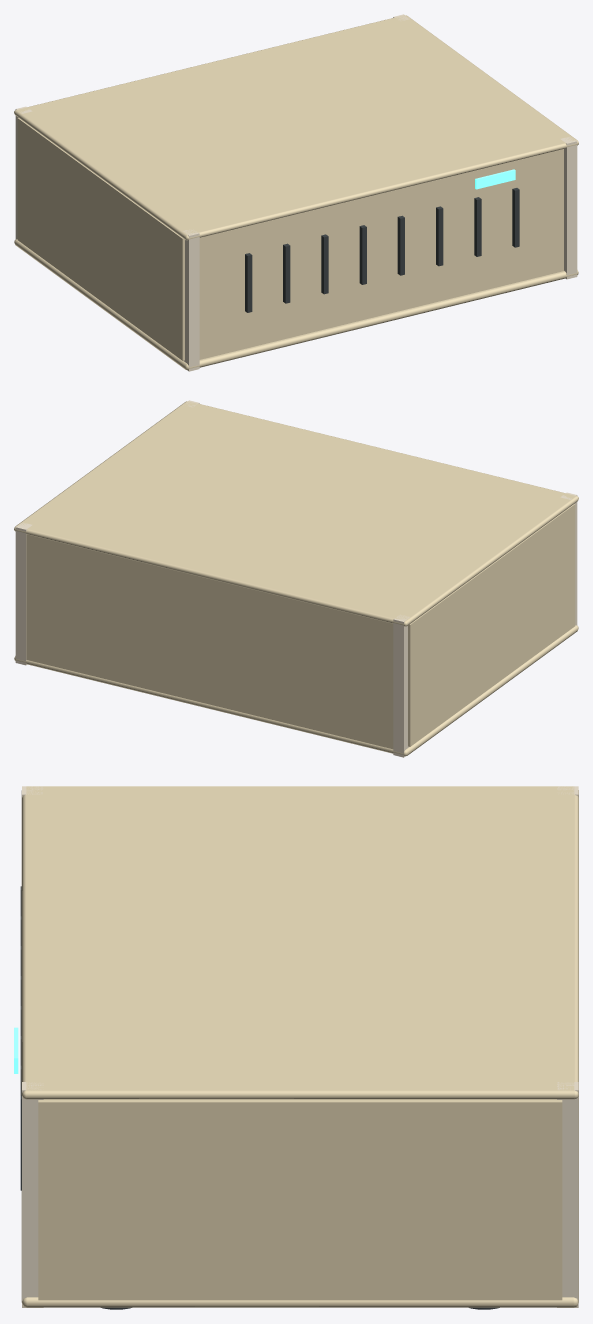
Rendered from pc_case_console_itx-1c80abed136c.glb.
3 renders of one model, top to bottom at view 1: azimuth 30°, elevation 25°; view 2: azimuth 150°, elevation 25°; view 3: azimuth 270°, elevation 25°, orthographic. The views are drawn at different scales.
Visible parts, largest first — view 1: surface_ivory, surface_chalk, surface_graphite, surface_cyan; view 2: surface_ivory, surface_chalk; view 3: surface_ivory, surface_chalk.
Boxes of the visible parts, left/top/right/bottom form: surface_ivory: left=14, top=15, right=578, bottom=370; surface_chalk: left=15, top=14, right=577, bottom=371; surface_graphite: left=245, top=188, right=519, bottom=312; surface_cyan: left=475, top=169, right=515, bottom=189; surface_ivory: left=14, top=401, right=578, bottom=756; surface_chalk: left=15, top=400, right=577, bottom=757; surface_ivory: left=21, top=786, right=578, bottom=1307; surface_chalk: left=22, top=786, right=578, bottom=1307.
Bounding box in the file's own units: 0.3403 × 0.126 × 0.2636.
